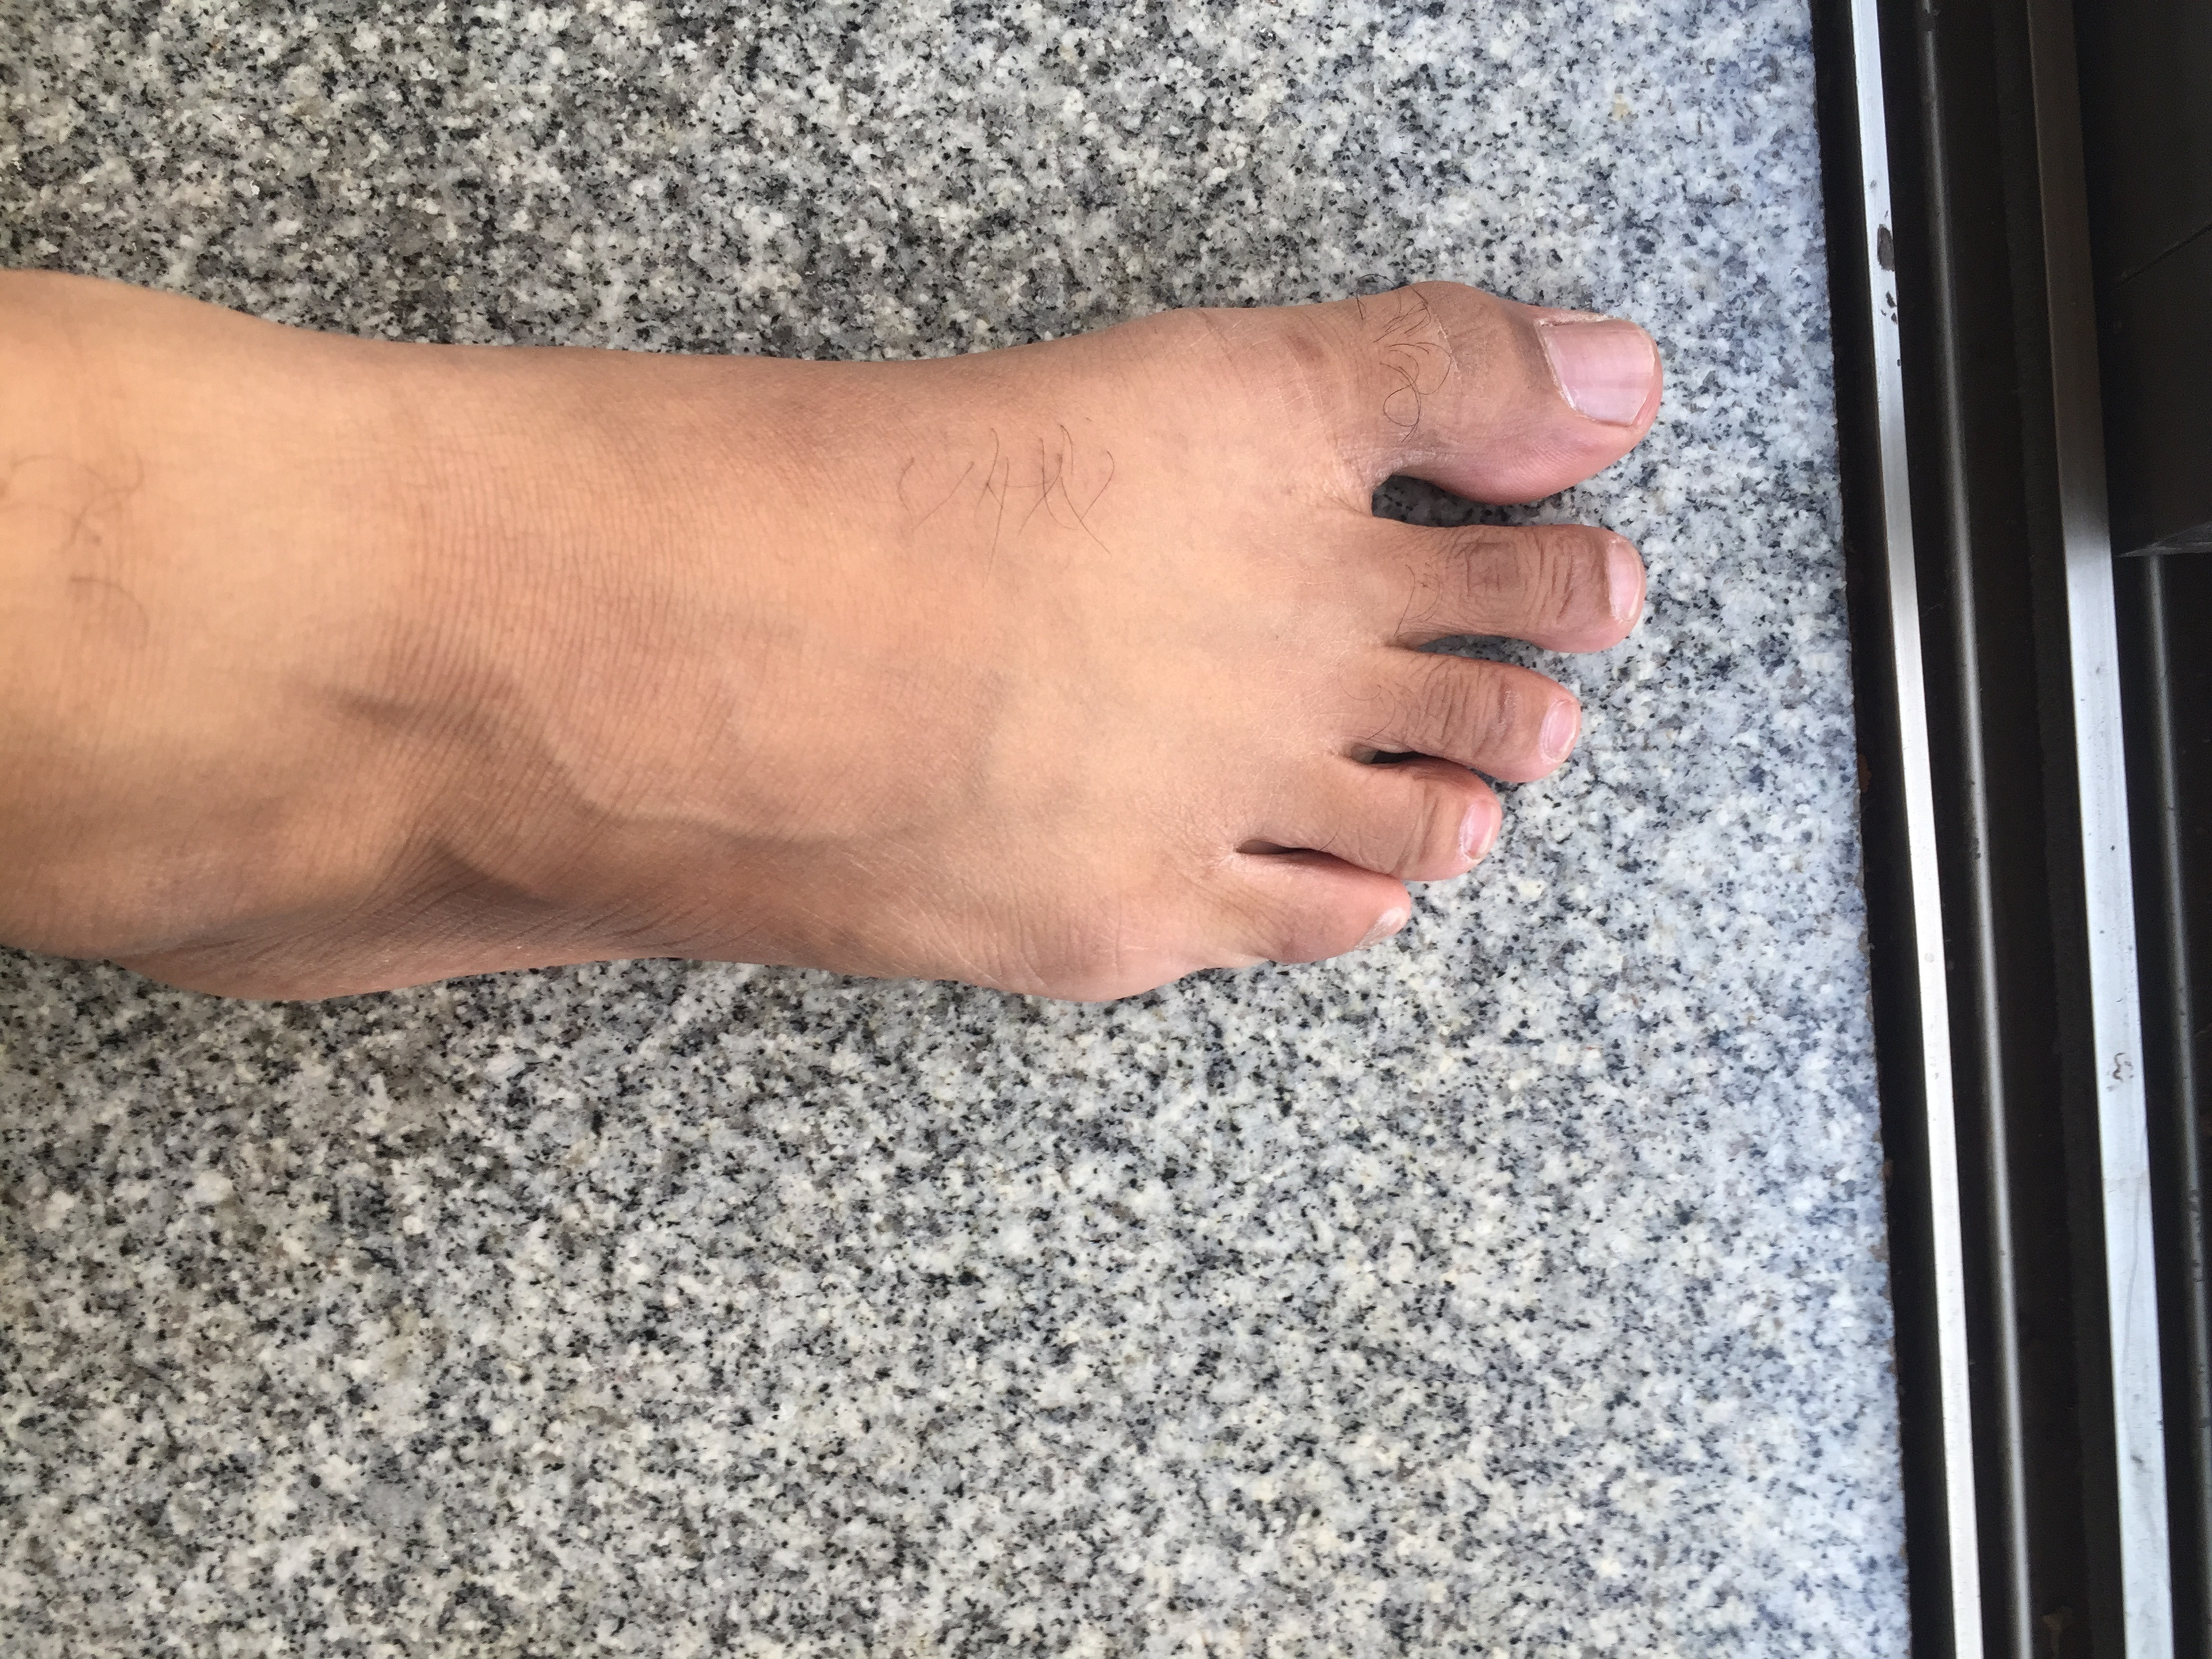feet: (16, 139, 1689, 1011)
